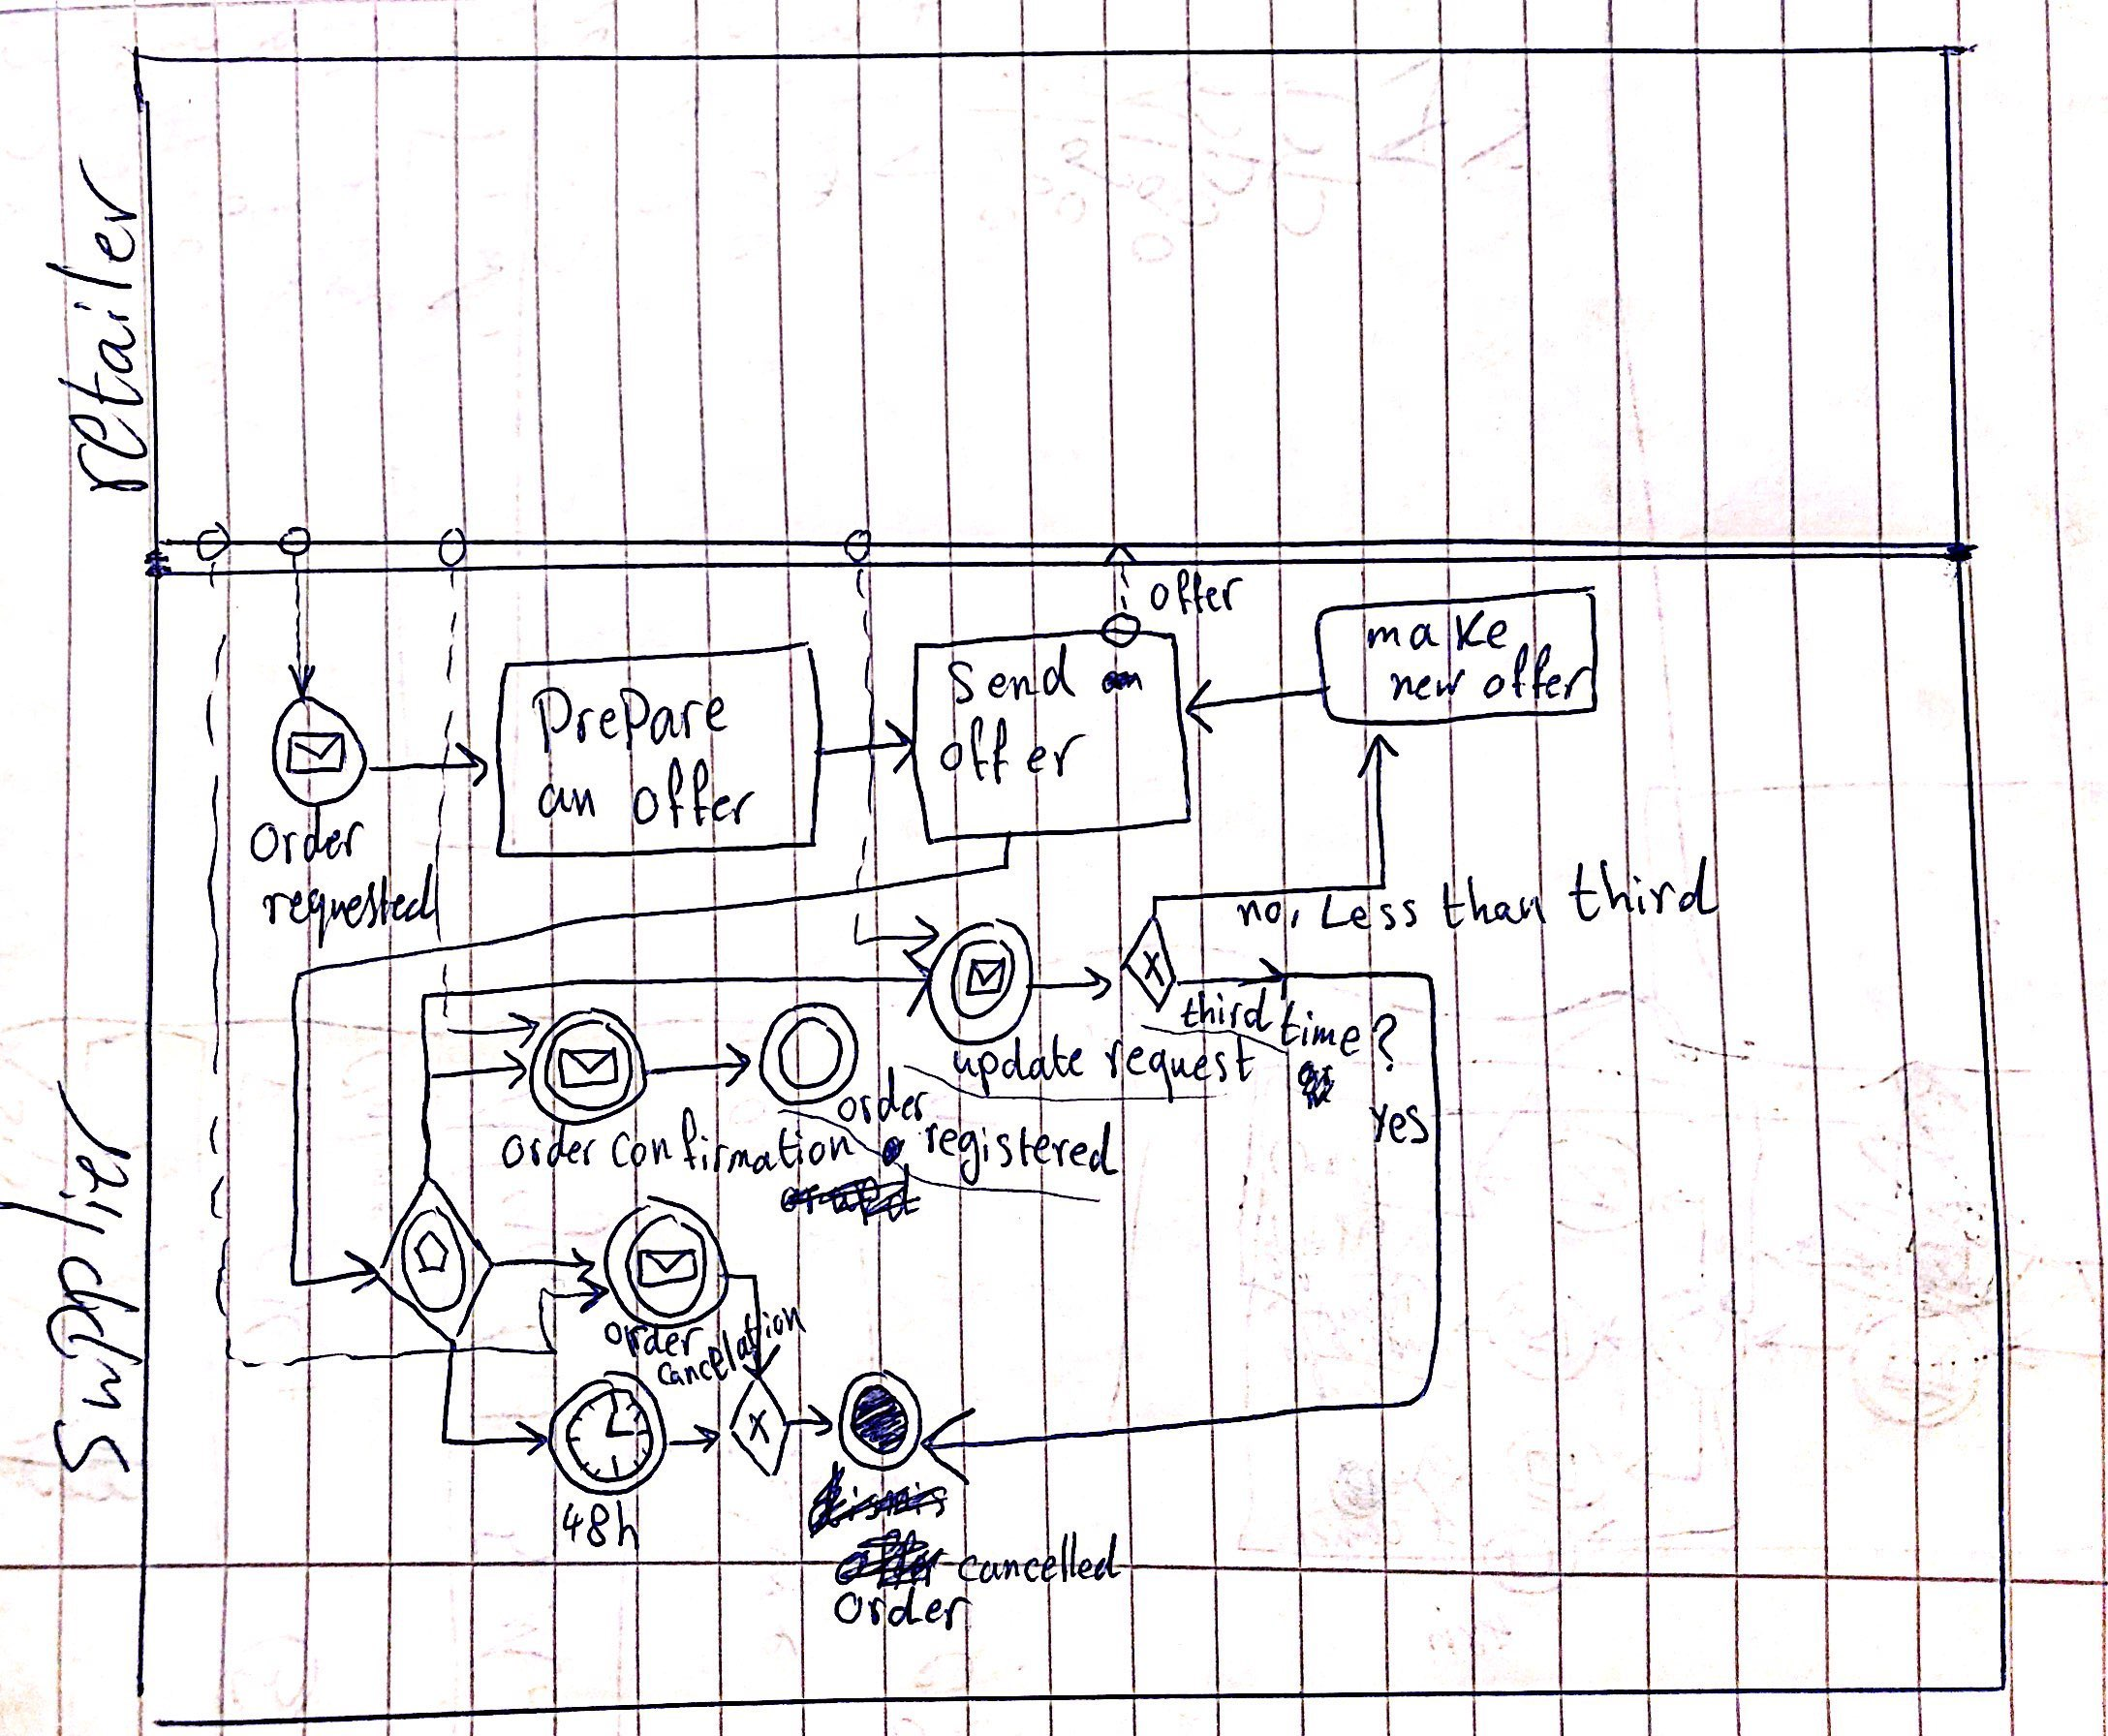48h: (550, 1493, 653, 1563)
Less: (1311, 882, 1434, 936)
Order: (249, 812, 364, 870)
Prepare: (531, 681, 732, 754)
Send: (942, 635, 1073, 716)
Supplier: (25, 1078, 152, 1482)
Yes: (1366, 1095, 1437, 1158)
an: (529, 763, 611, 833)
cancelation: (658, 1323, 800, 1381)
cancelled: (951, 1543, 1119, 1585)
confirmation: (611, 1115, 849, 1181)
make: (1357, 604, 1513, 658)
new: (1385, 654, 1471, 714)
no,: (1233, 891, 1310, 938)
offer: (914, 707, 1089, 798), (629, 752, 756, 836), (1476, 646, 1597, 710), (1140, 569, 1247, 621)
order: (818, 1591, 982, 1641), (580, 1314, 728, 1361), (485, 1118, 597, 1178), (830, 1083, 930, 1129)
registered: (923, 1109, 1122, 1188)
request: (1094, 1039, 1259, 1099)
requested: (257, 873, 443, 934)
retailer: (46, 150, 149, 507)
than: (1437, 870, 1565, 933)
third: (1569, 852, 1723, 929), (1166, 987, 1264, 1046)
time?: (1278, 994, 1394, 1078)
update: (947, 1039, 1089, 1090)
